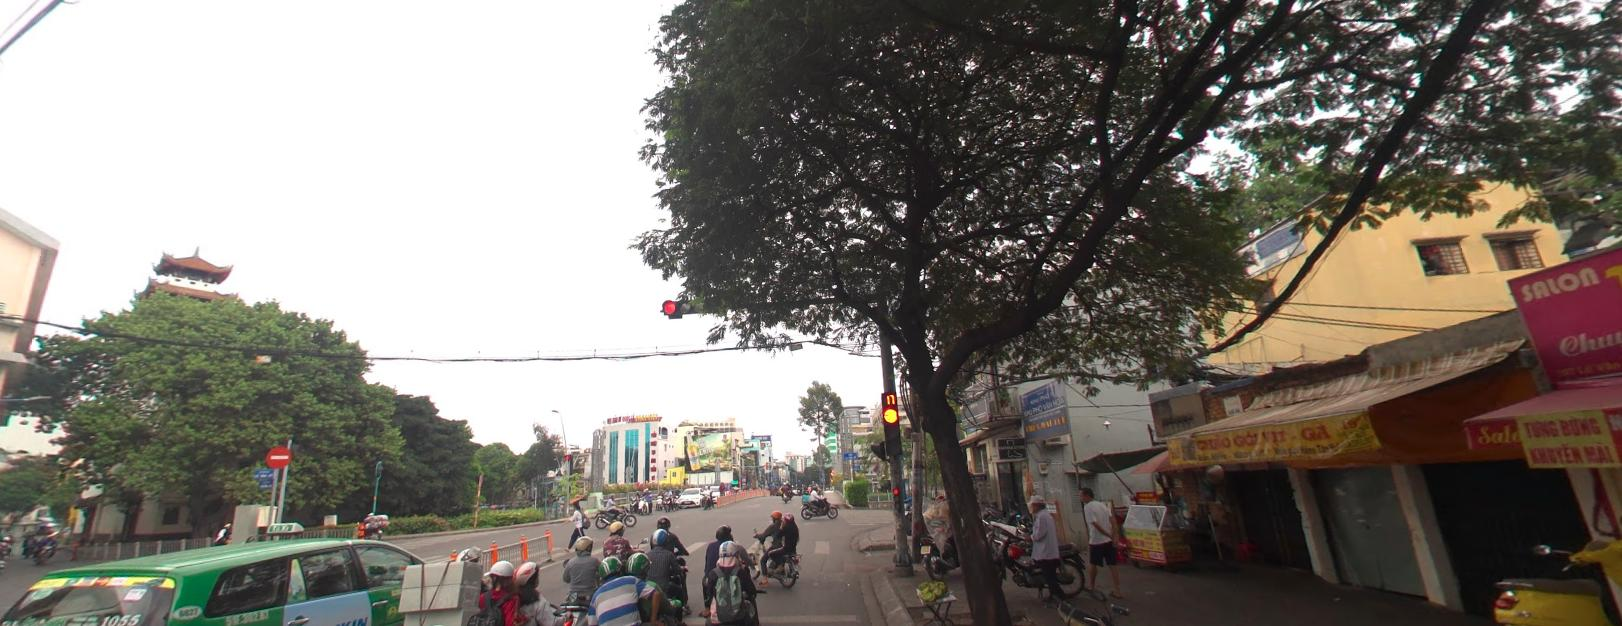Cam nguoc chieu: (265, 444, 290, 467)
